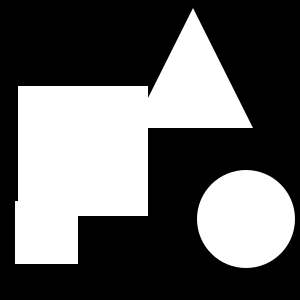circle: (18, 86, 148, 216), (15, 201, 78, 264)
rectangle: (197, 170, 295, 268)
triangle: (133, 8, 253, 128), (143, 22, 243, 122)
